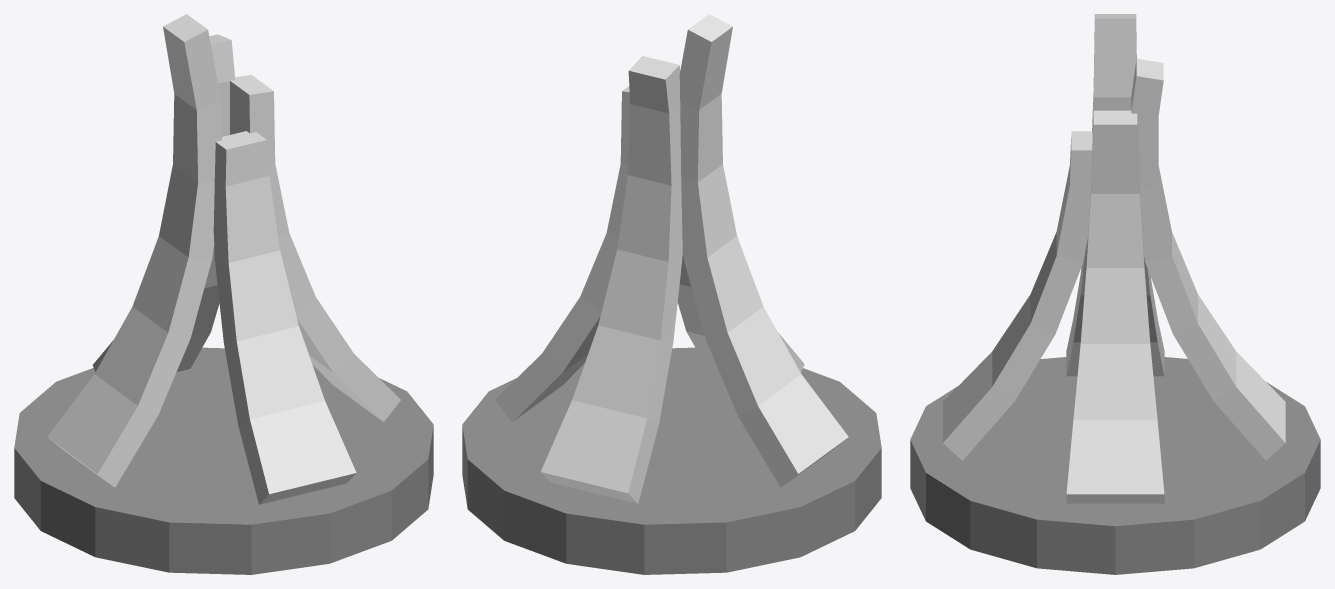
The model's file is Monument_Straight_03.fbx.
3 renders of one model, left to right at view 1: azimuth 30°, elevation 25°; view 2: azimuth 150°, elevation 25°; view 3: azimuth 270°, elevation 25°, orthographic. The views are drawn at different scales.
Parts seen in each view (by area): view 1: BenchStaright_03_T_Colors; view 2: BenchStaright_03_T_Colors; view 3: BenchStaright_03_T_Colors.
Part boxes in pixels (x1=…): BenchStaright_03_T_Colors: x1=14, y1=14, x2=433, y2=574; BenchStaright_03_T_Colors: x1=462, y1=14, x2=881, y2=574; BenchStaright_03_T_Colors: x1=910, y1=14, x2=1320, y2=574.
Bounding box in the file's own units: 546 × 671 × 546.
